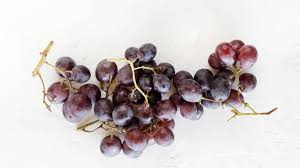Red Grapes: (96, 48, 183, 157), (182, 38, 273, 125), (27, 43, 101, 120)
